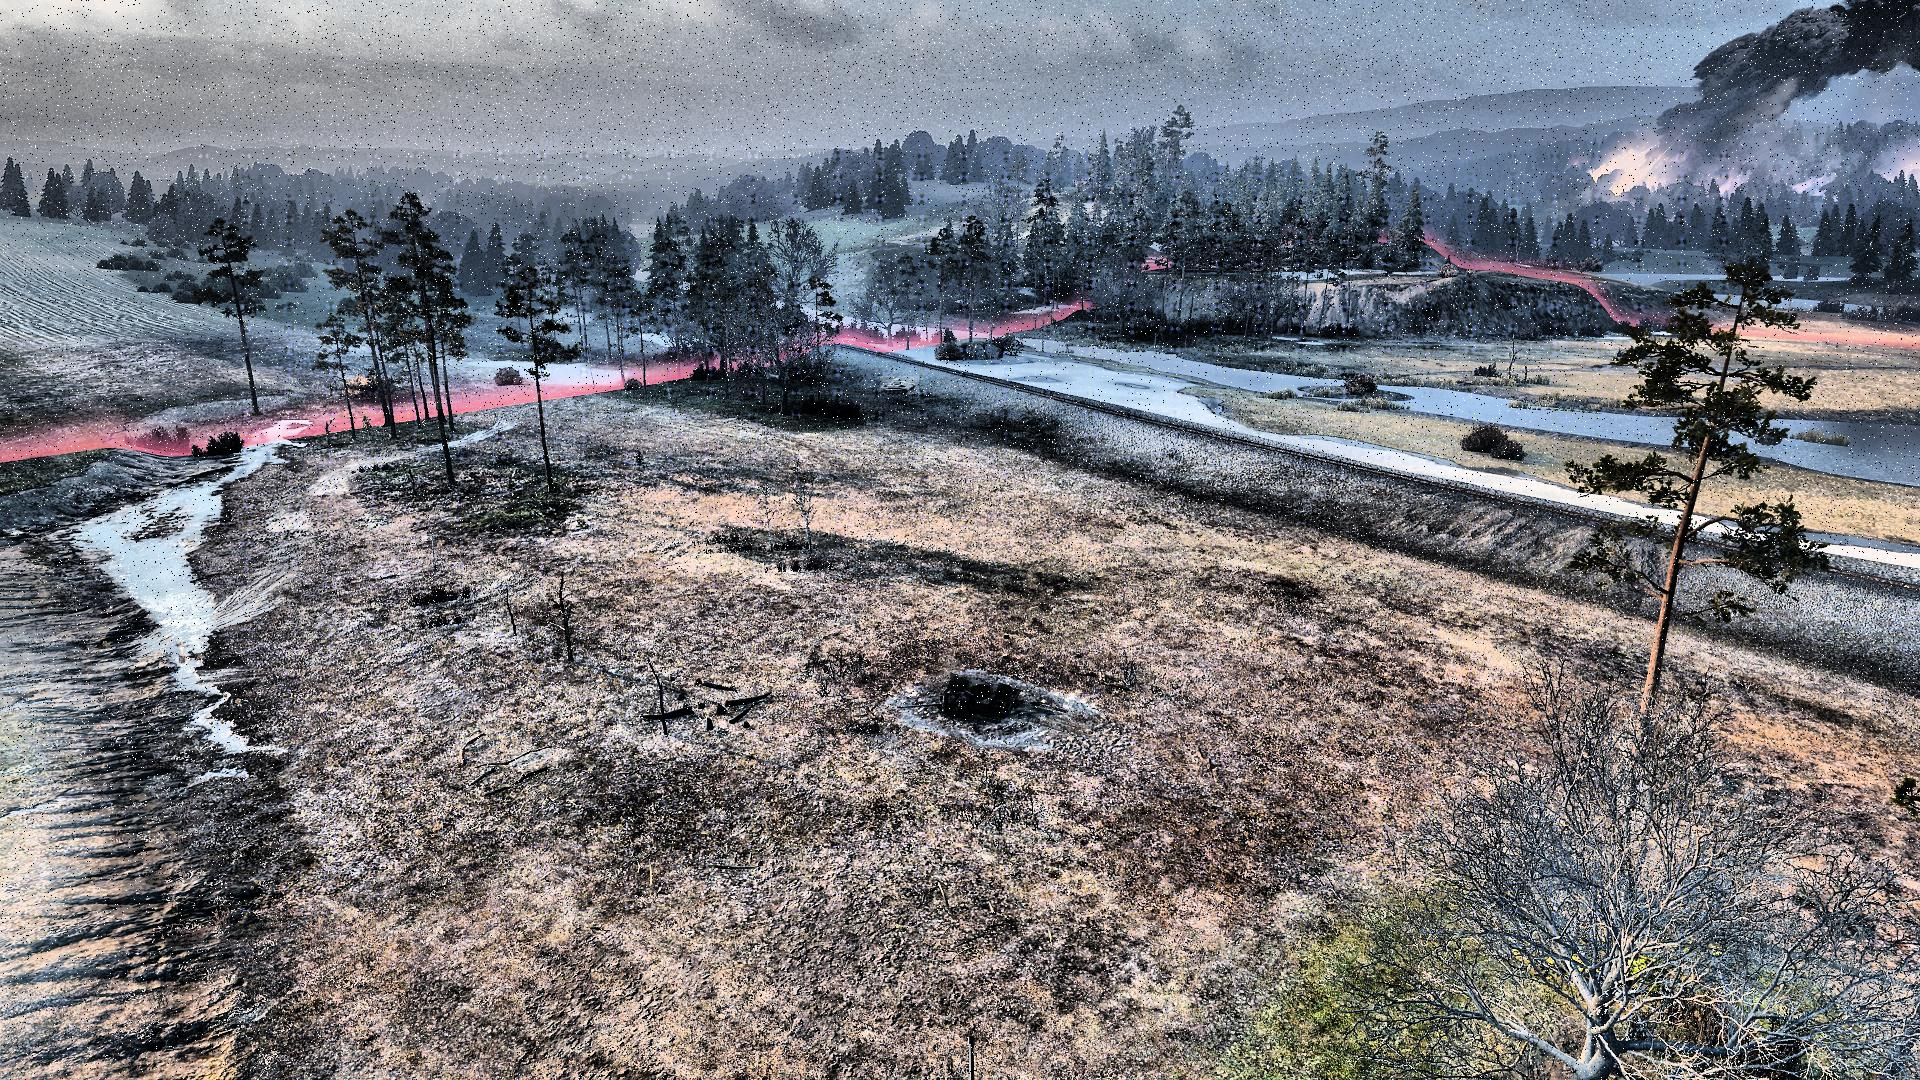military-vehicle: (881, 376, 920, 394)
